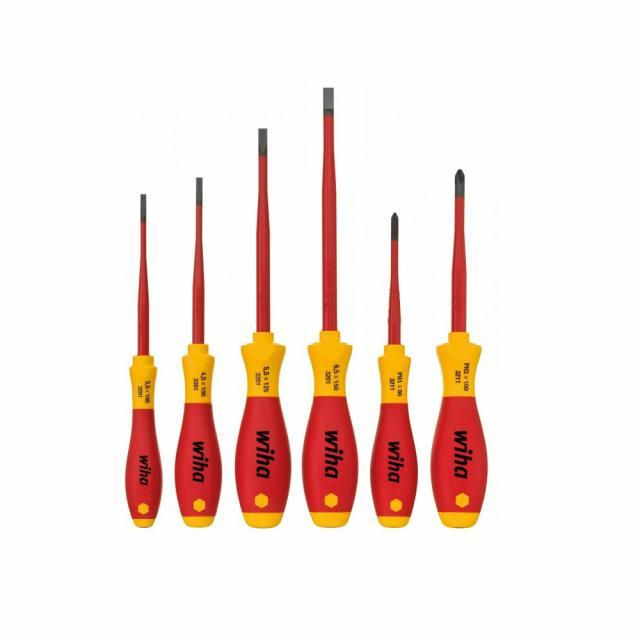screwdriver: (298, 80, 360, 532), (230, 121, 294, 534), (428, 160, 490, 531), (167, 172, 226, 529), (116, 185, 166, 531), (367, 205, 420, 528)
